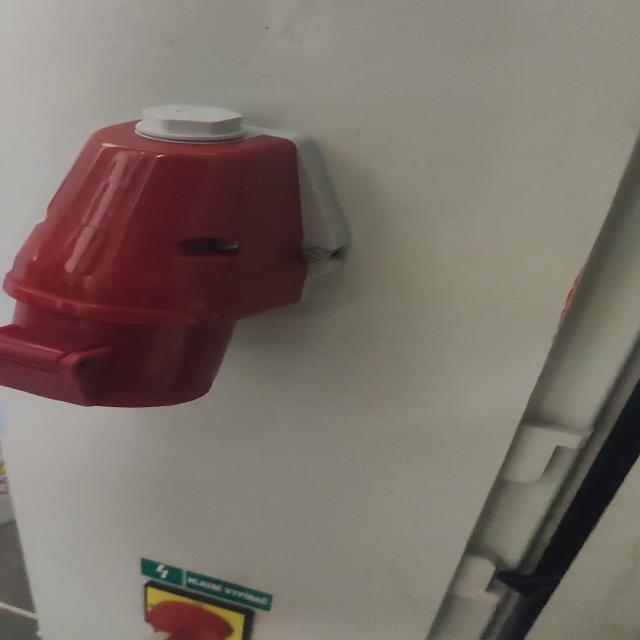400v socket down: (0, 104, 345, 411)
safety switch: (148, 580, 255, 640)
